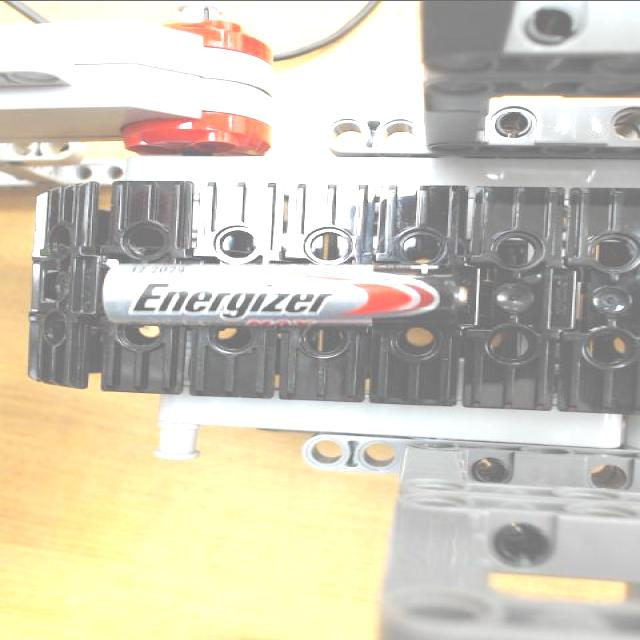AAA: (100, 262, 480, 326)
